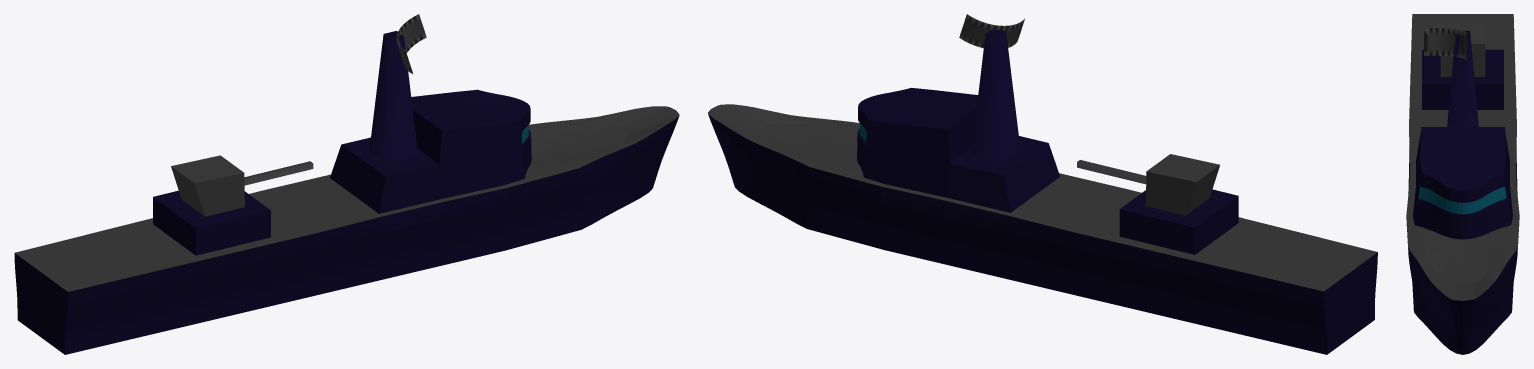
Rendered from myShip.glb.
3 renders of one model, left to right at view 1: azimuth 30°, elevation 25°; view 2: azimuth 150°, elevation 25°; view 3: azimuth 270°, elevation 25°, orthographic. The views are drawn at different scales.
Parts seen in each view (by area): view 1: Cube, Cube.003, Cube.005, Cube.001, Cube.004, Cube.002; view 2: Cube, Cube.003, Cube.005, Cube.001, Cube.004, Cube.002; view 3: Cube, Cube.003, Cube.005, Cube.001, Cube.004.
Part boxes in pixels (left/top/right/bottom): Cube: left=14, top=89, right=679, bottom=354; Cube.003: left=153, top=190, right=270, bottom=255; Cube.005: left=369, top=31, right=418, bottom=163; Cube.001: left=171, top=155, right=244, bottom=216; Cube.004: left=396, top=14, right=426, bottom=73; Cube.002: left=244, top=161, right=313, bottom=185; Cube: left=708, top=88, right=1377, bottom=354; Cube.003: left=1119, top=189, right=1238, bottom=254; Cube.005: left=971, top=30, right=1020, bottom=162; Cube.001: left=1145, top=154, right=1219, bottom=215; Cube.004: left=959, top=14, right=1024, bottom=48; Cube.002: left=1077, top=160, right=1146, bottom=184; Cube: left=1406, top=14, right=1519, bottom=354; Cube.003: left=1422, top=49, right=1503, bottom=109; Cube.005: left=1447, top=30, right=1478, bottom=126; Cube.001: left=1440, top=19, right=1485, bottom=76; Cube.004: left=1424, top=28, right=1466, bottom=60.
Bounding box in the file's own units: 8.49 × 2.93 × 1.39.
